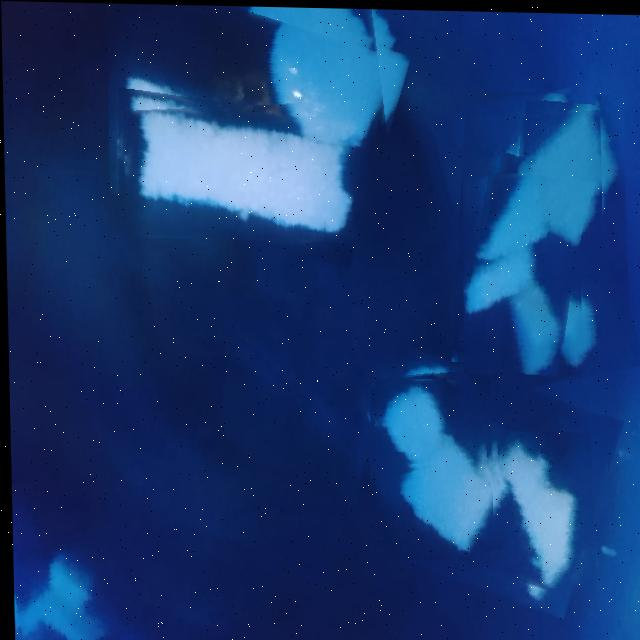litter: (105, 2, 400, 252), (352, 357, 611, 601), (443, 88, 628, 390), (122, 93, 376, 240), (458, 161, 580, 372), (364, 371, 491, 558), (460, 427, 591, 586), (505, 103, 601, 249), (9, 531, 112, 640), (369, 375, 450, 462)
